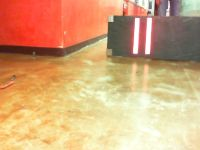switch: (144, 17, 152, 56), (133, 18, 140, 55)
